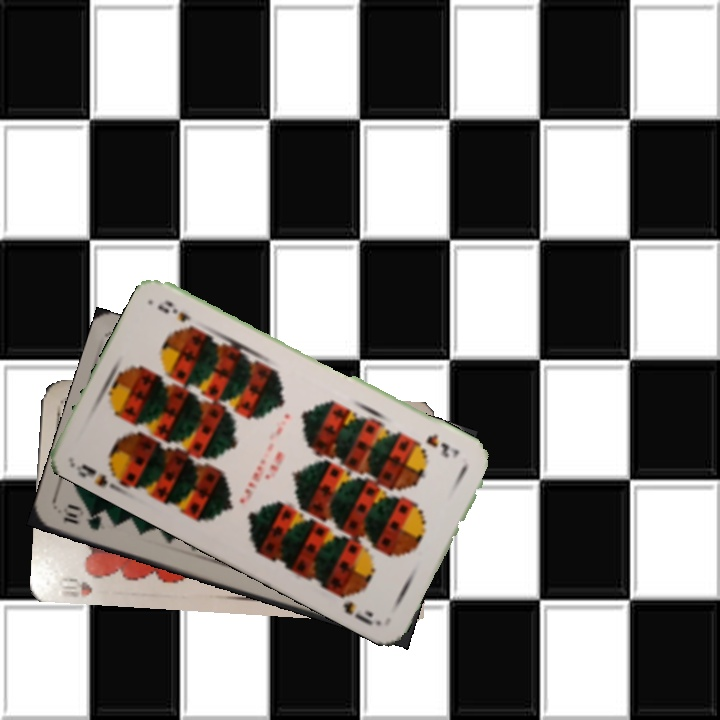G10: (59, 501, 104, 533)
H10: (53, 573, 95, 599)
S9: (72, 460, 128, 495), (421, 430, 462, 461)
